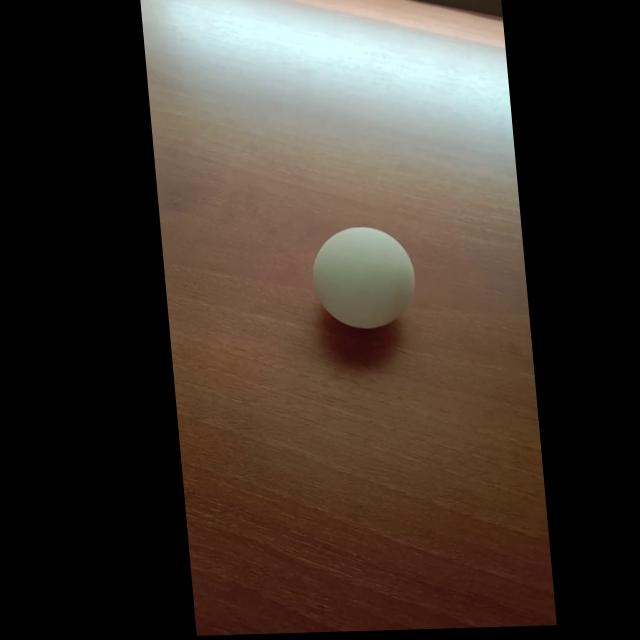white ball: (308, 224, 419, 331)
